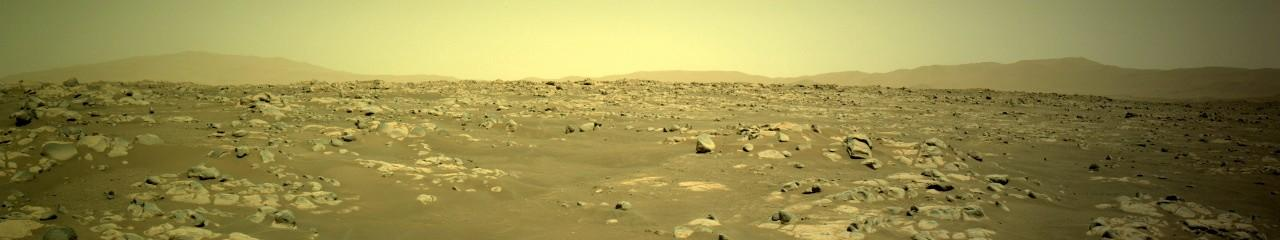bedrock: (3, 84, 1272, 239)
sand: (351, 128, 673, 239), (954, 100, 1228, 108), (622, 133, 659, 145)
soil: (994, 234, 1079, 238), (343, 231, 354, 237)
